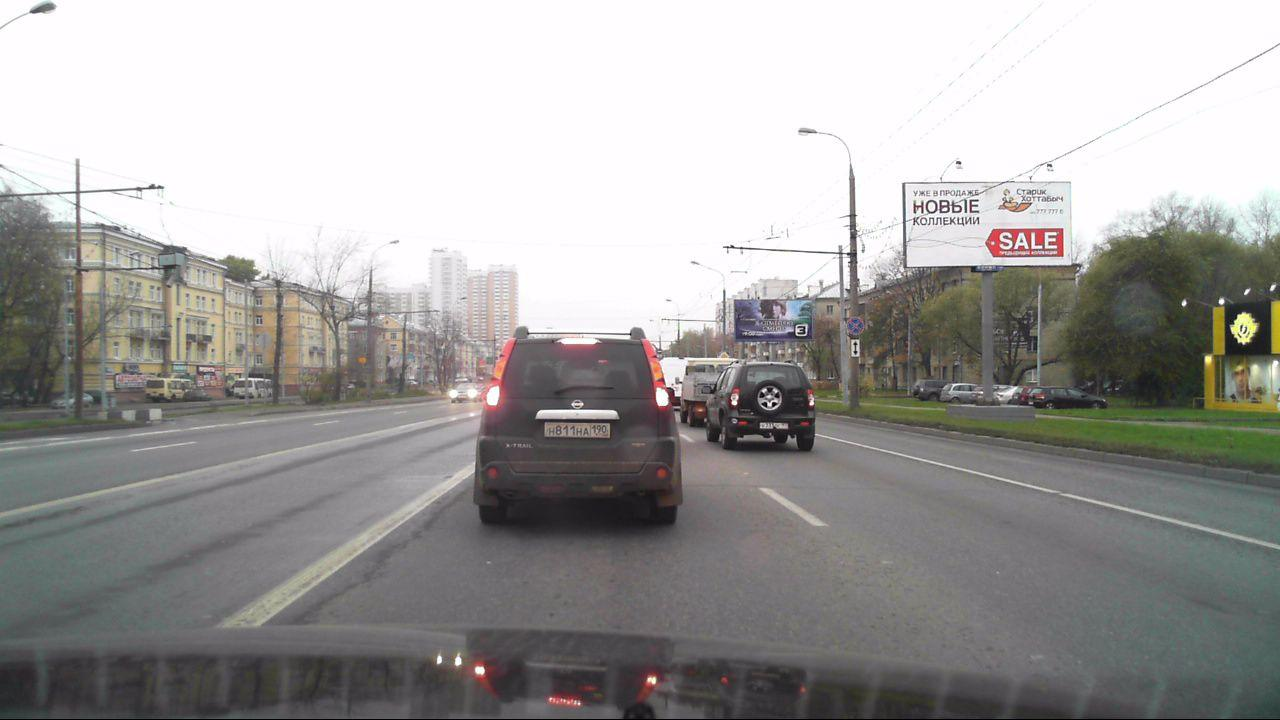road_sign: (848, 316, 865, 335), (850, 338, 860, 359)
